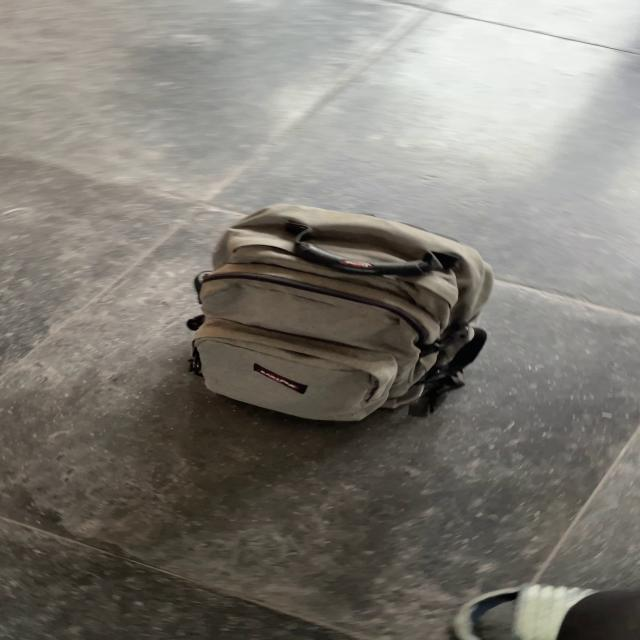backpack: (174, 198, 506, 427)
